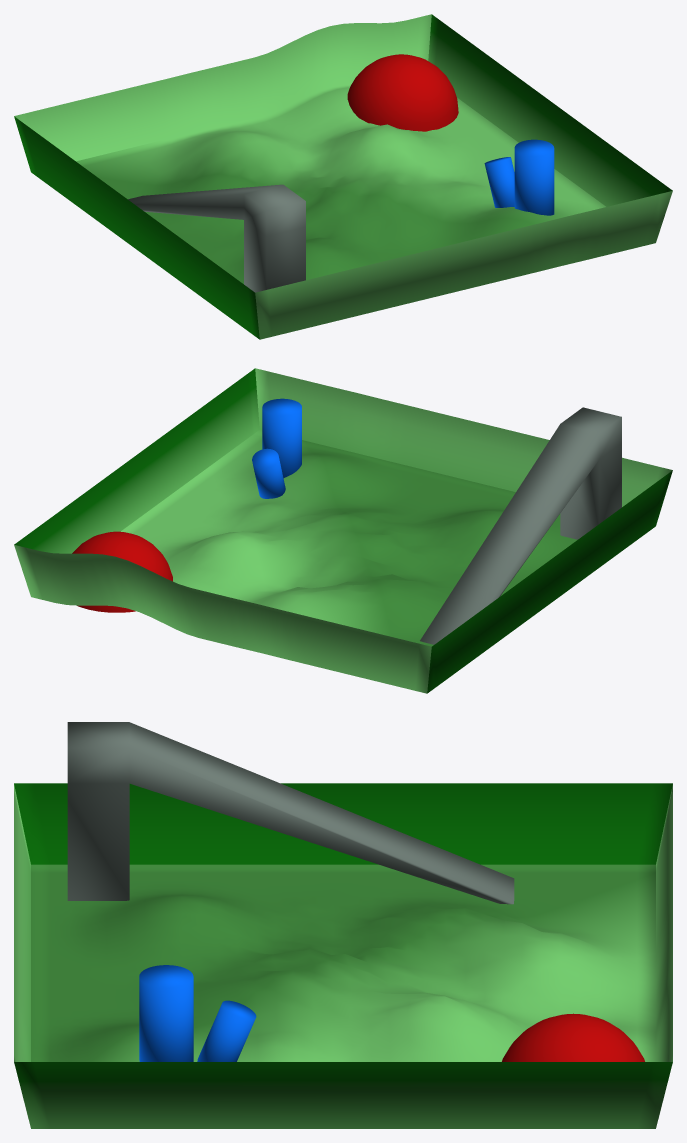
File: park.fbx
3 renders of one model, top to bottom at view 1: azimuth 30°, elevation 25°; view 2: azimuth 150°, elevation 25°; view 3: azimuth 270°, elevation 25°, orthographic. The views are drawn at different scales.
Visible parts, largest first — view 1: Plane; view 2: Plane; view 3: Plane.
Boxes of the visible parts, x1,y1,x2,y2 form: Plane: [14, 14, 672, 339]; Plane: [14, 368, 672, 693]; Plane: [14, 722, 672, 1128].
Bounding box in the file's own units: 21091 × 5807 × 21091.
